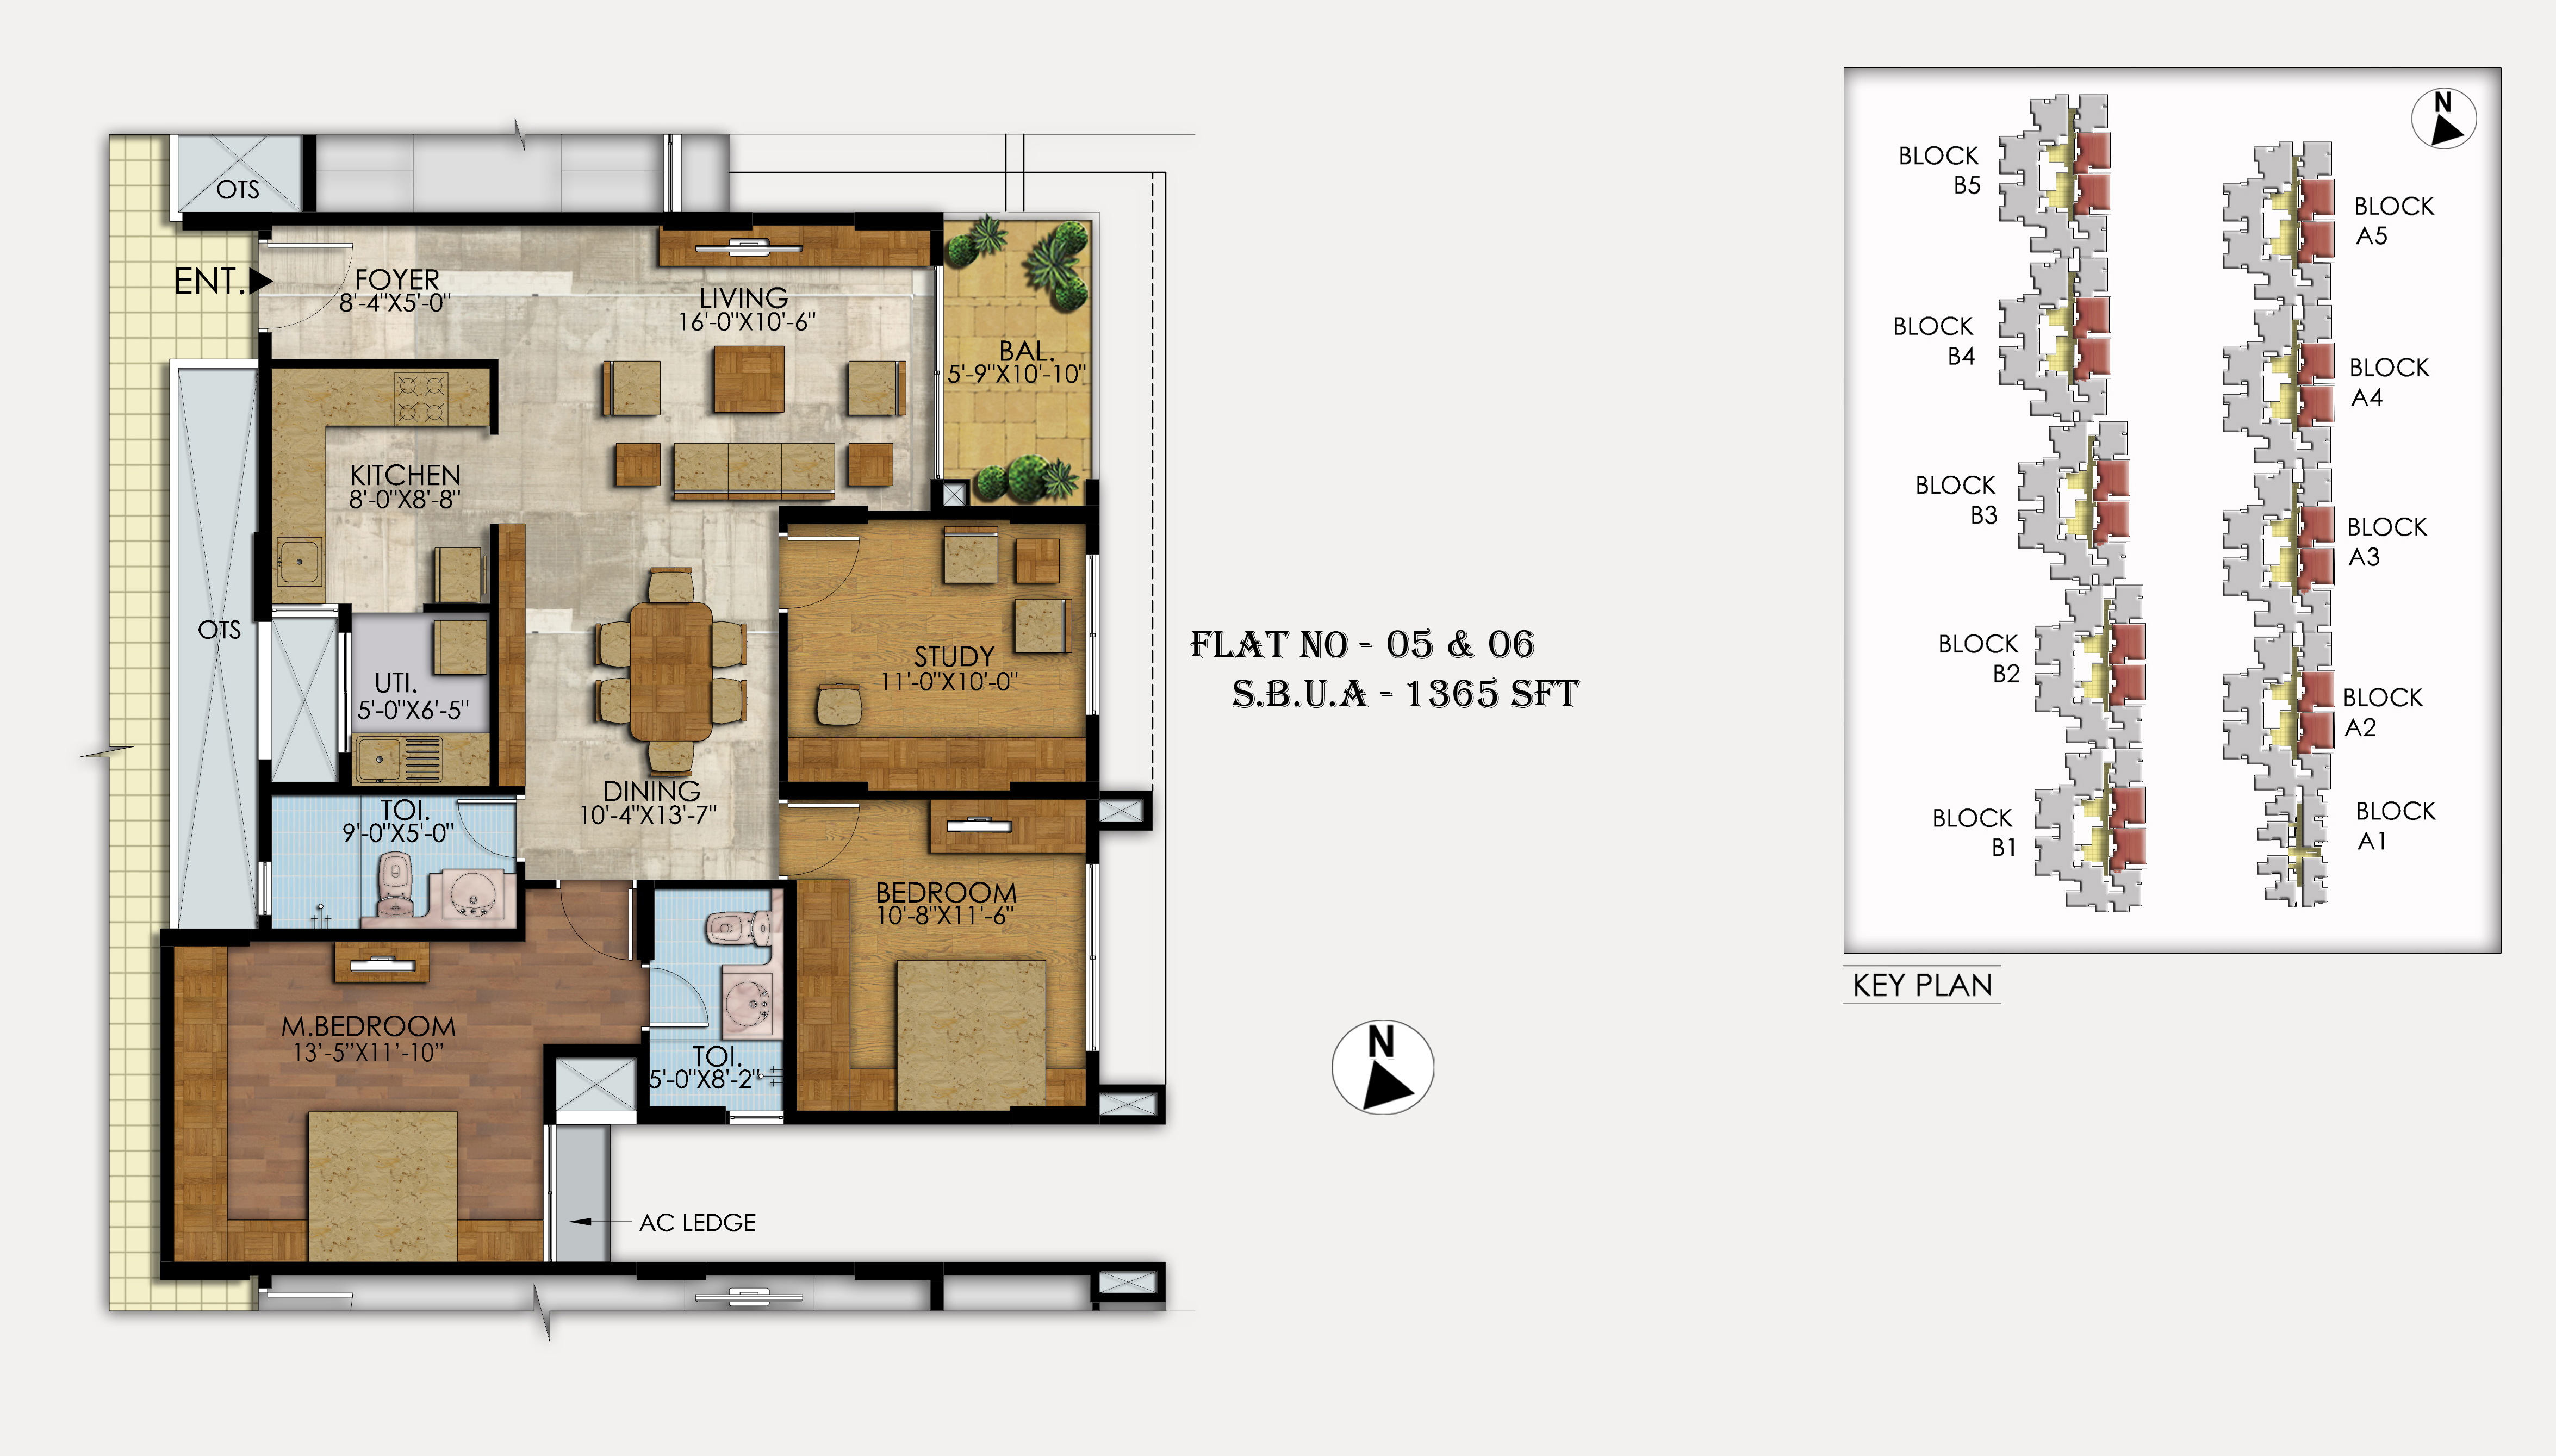door: (785, 534, 864, 611), (558, 889, 635, 962), (785, 799, 860, 873), (643, 966, 713, 1029), (453, 797, 518, 859)
